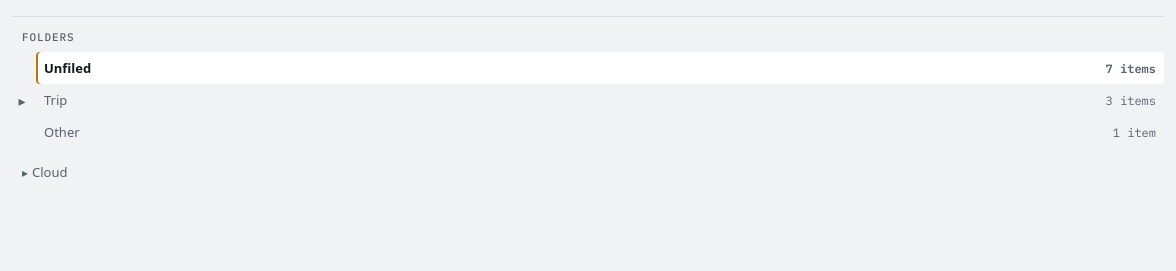
SidebarFolders — provider secondary › the Cloud section is collapsed by default and expands to the provider tree
expect the list item "▸ Trip 3 items" is shown: met, box [12,84,1164,116]
Click the button "▸ Cloud".
click(50, 172)  # box [12,156,1164,189]
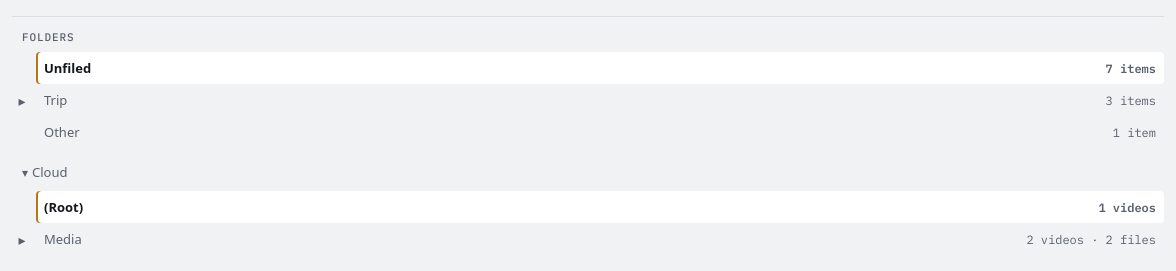
expect the list named "Cloud folders" is shown: met, box [12,191,1164,255]
expect the list item "▸ Media 2 videos · 2 files" is shown: met, box [12,223,1164,255]
